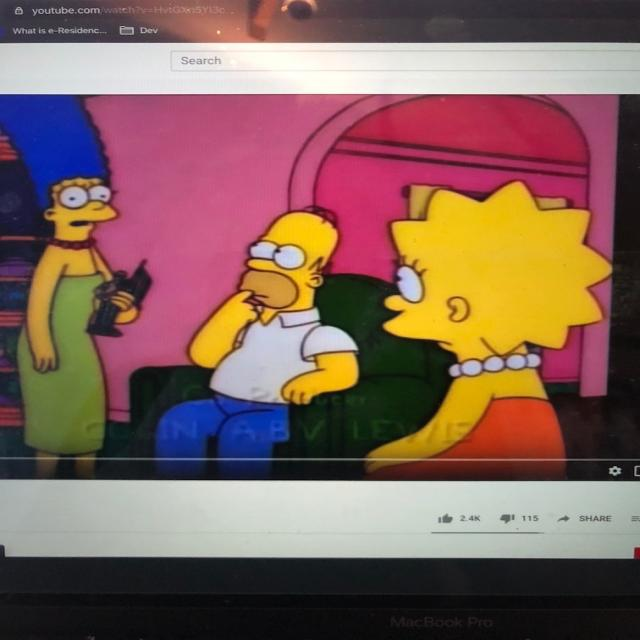Homer Simpson: (232, 203, 344, 323)
Lisa Simpson: (375, 176, 617, 380)
Marge Simpson: (0, 94, 124, 254)
